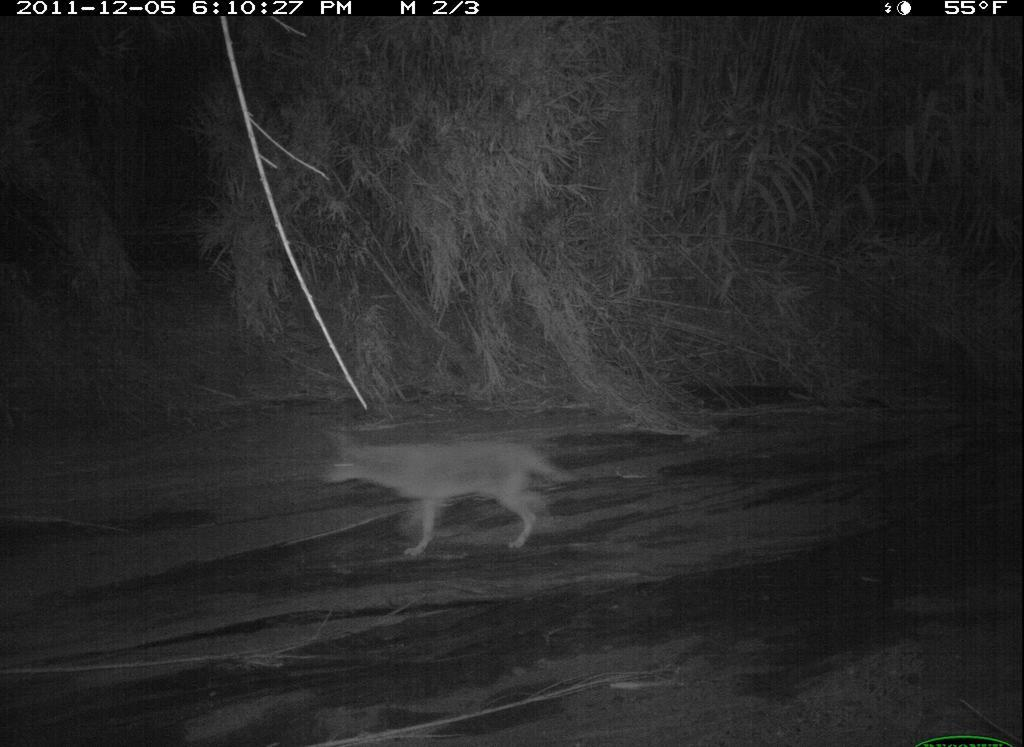coyote: (319, 425, 584, 559)
